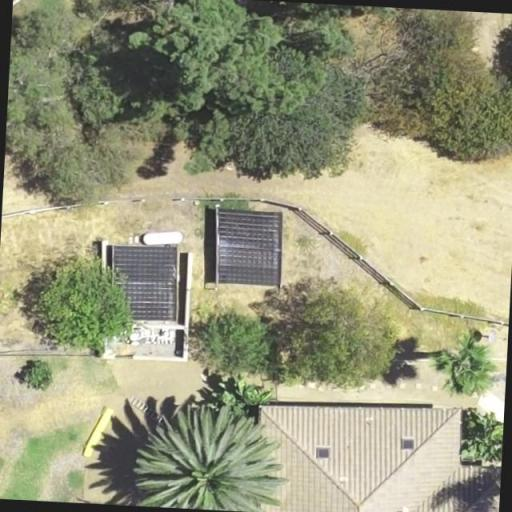solar-panel: (215, 207, 283, 287), (111, 245, 179, 320)
